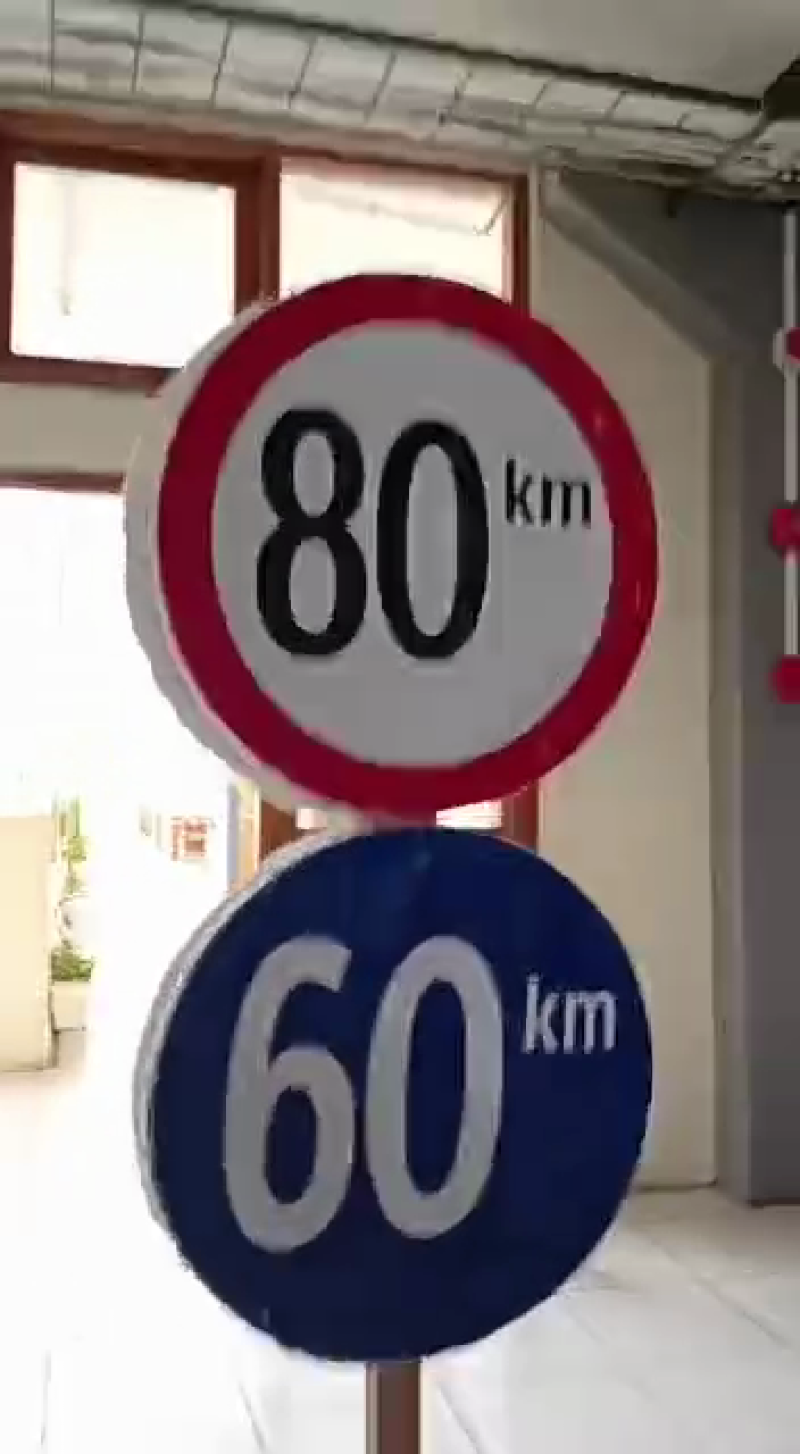batas maksimal 80kmperjam minimal 60kmperjam: (146, 266, 675, 1366)
